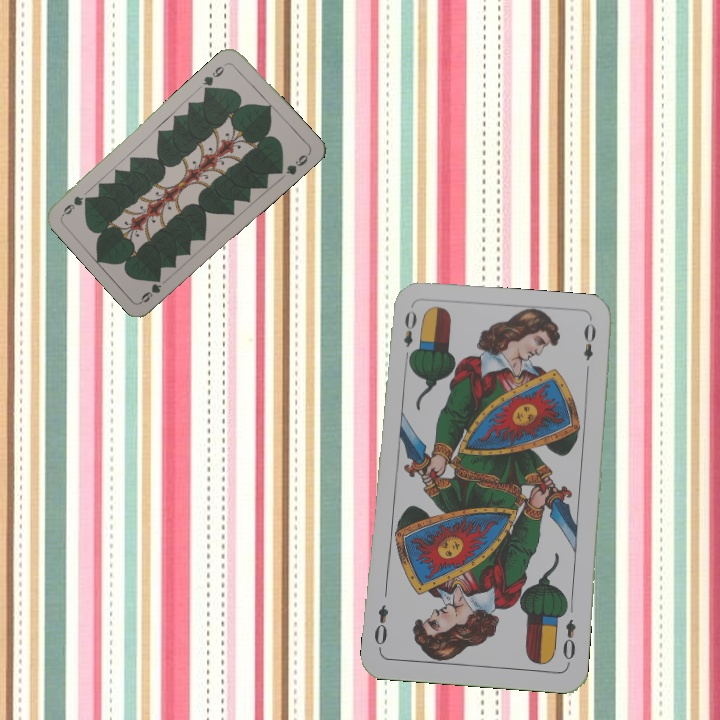EO: (399, 306, 419, 364), (558, 615, 579, 667)
G9: (199, 59, 230, 92), (137, 273, 164, 305)
